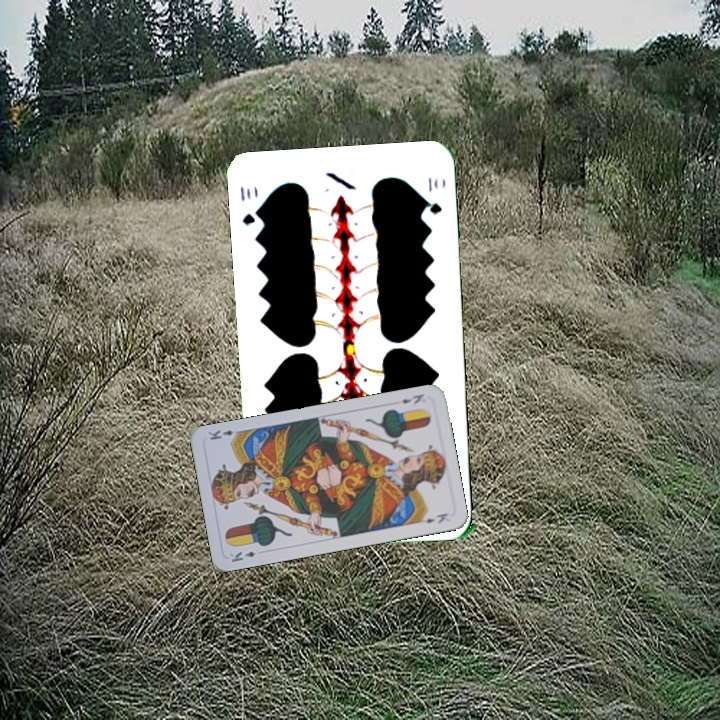EK: (226, 547, 258, 565), (398, 390, 426, 407)
G10: (236, 183, 264, 228)
